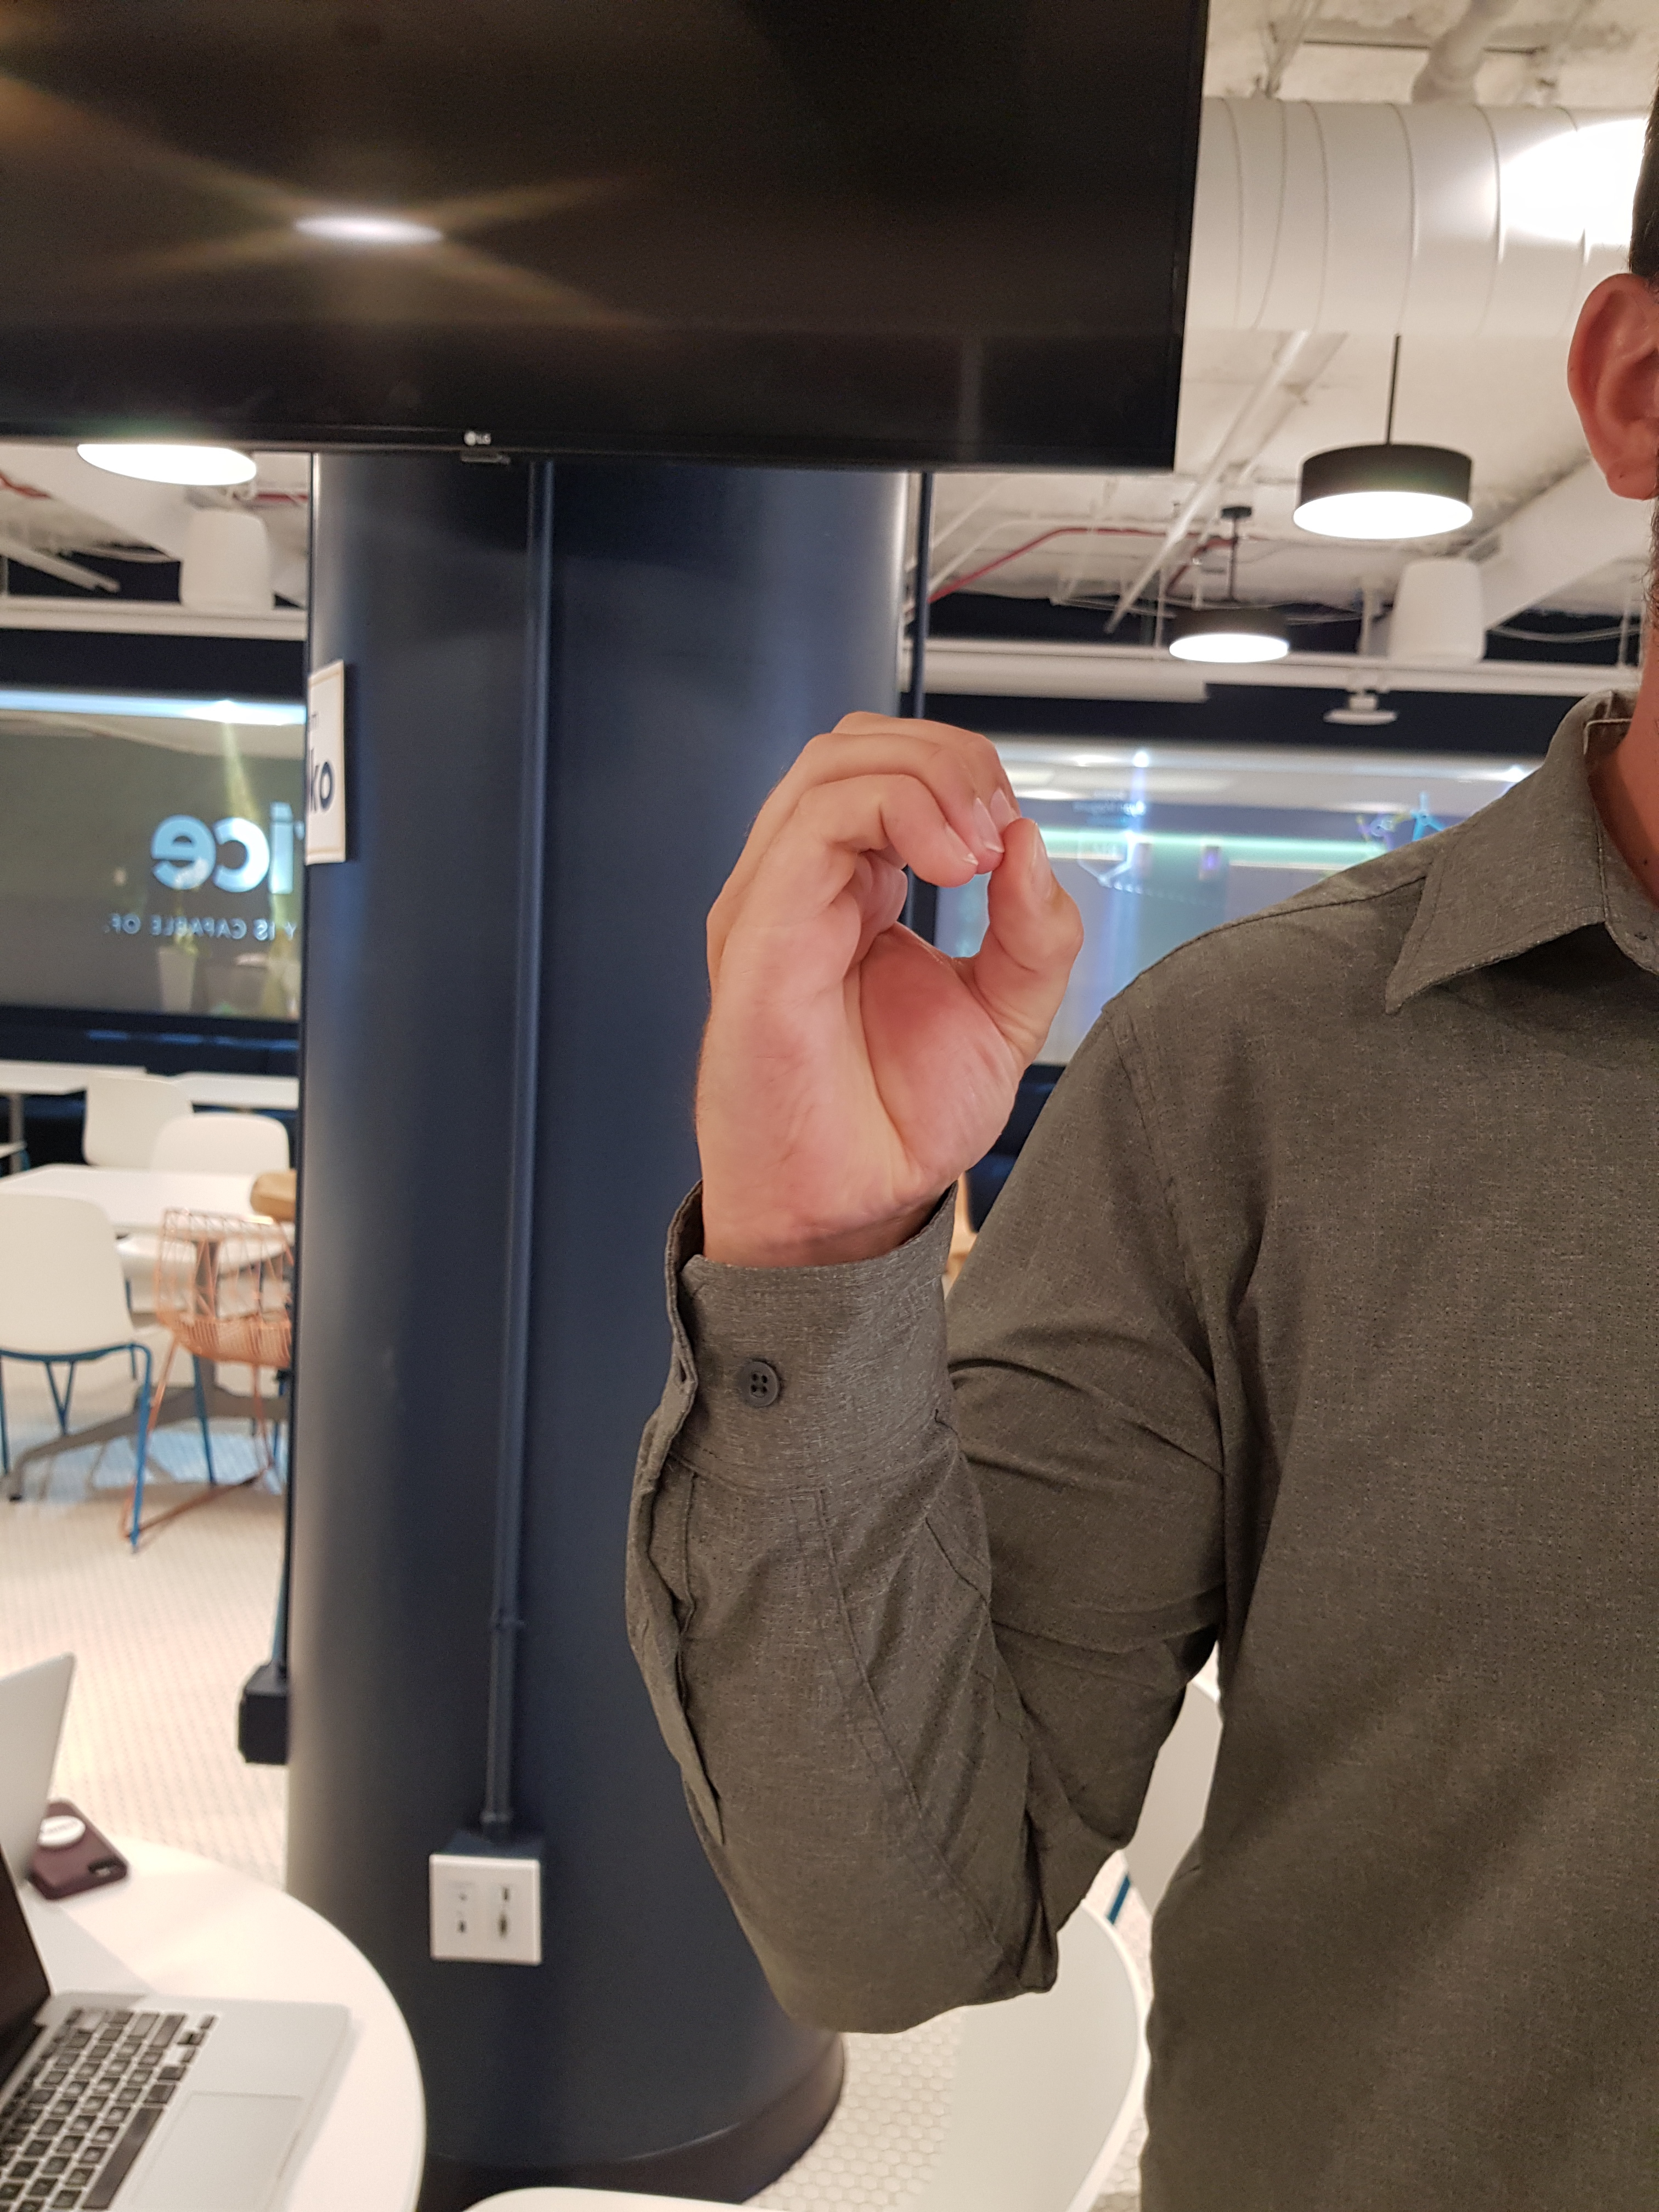o: (660, 681, 1094, 1305)
